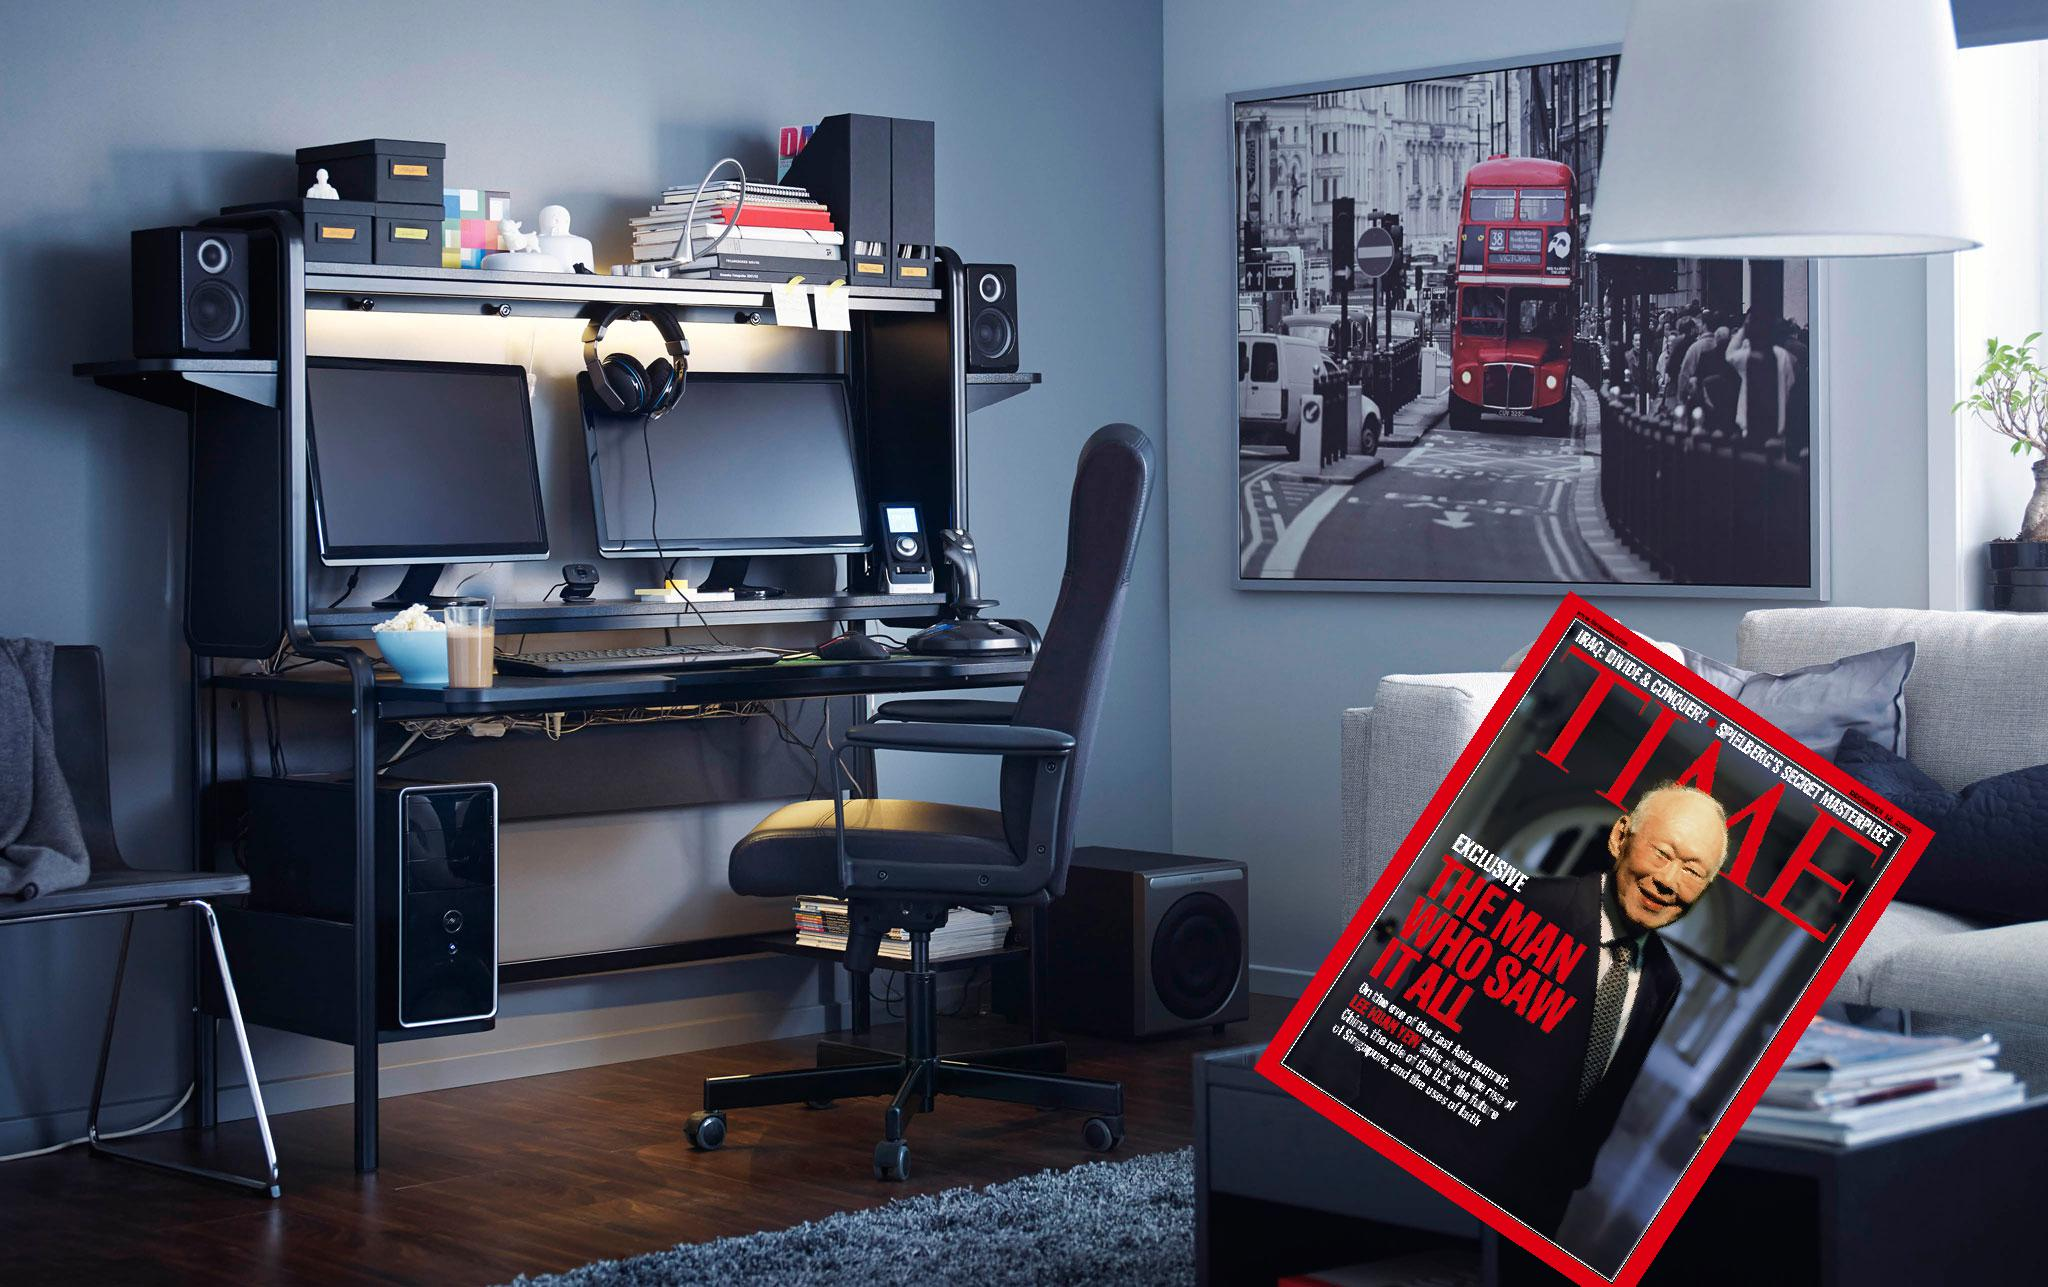times: (1251, 592, 1932, 1275)
